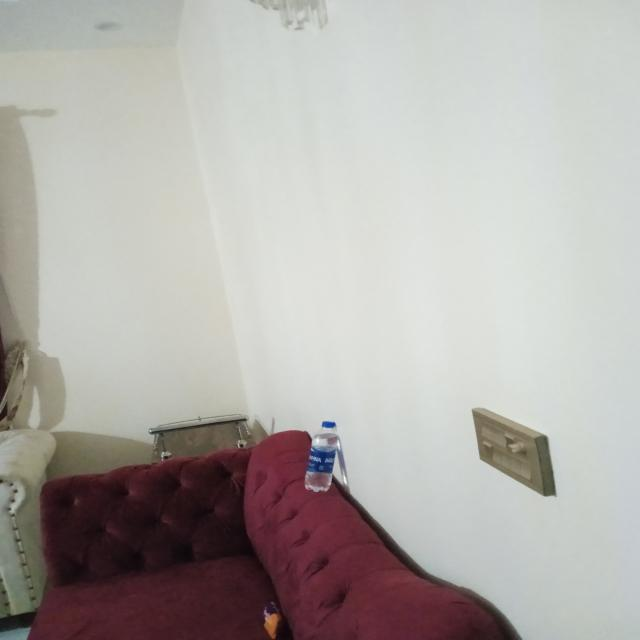Plastic: (304, 417, 344, 494)
